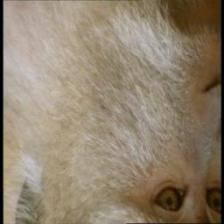monkey: (138, 1, 222, 222)
